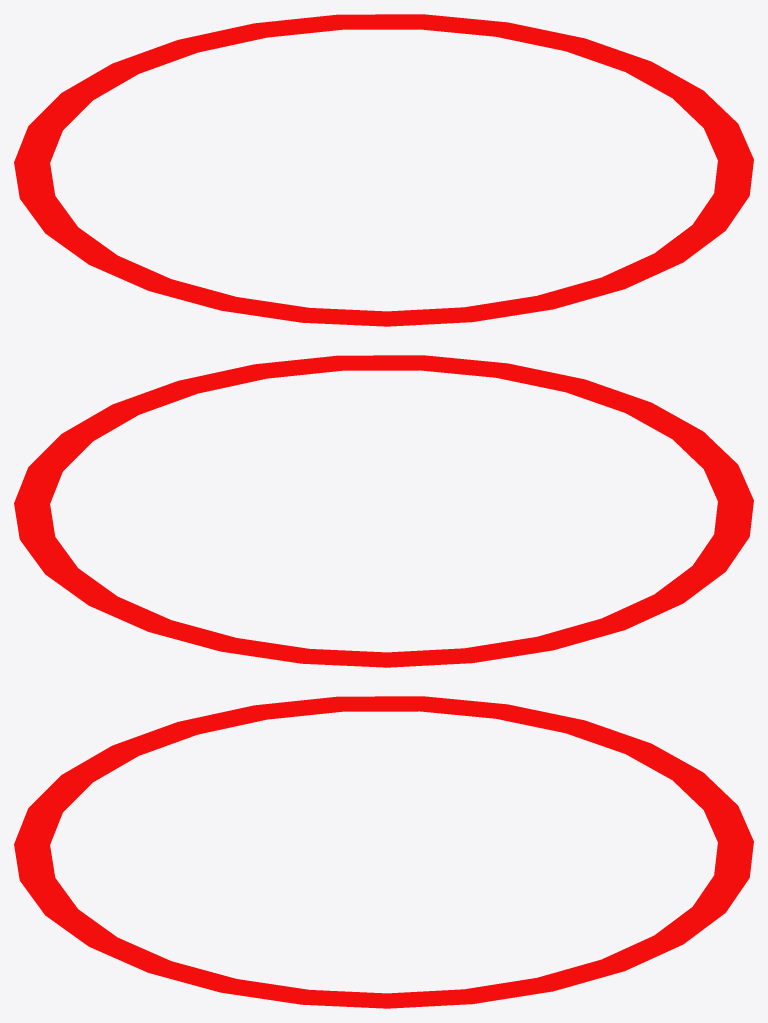
File: Dutesgd-36Ring5.gltf
The picture shows the model from 3 angles, top to bottom: view 1: azimuth 30°, elevation 25°; view 2: azimuth 150°, elevation 25°; view 3: azimuth 270°, elevation 25°; orthographic projection.
Size of the model in its own units: 264 by 0 by 265.
